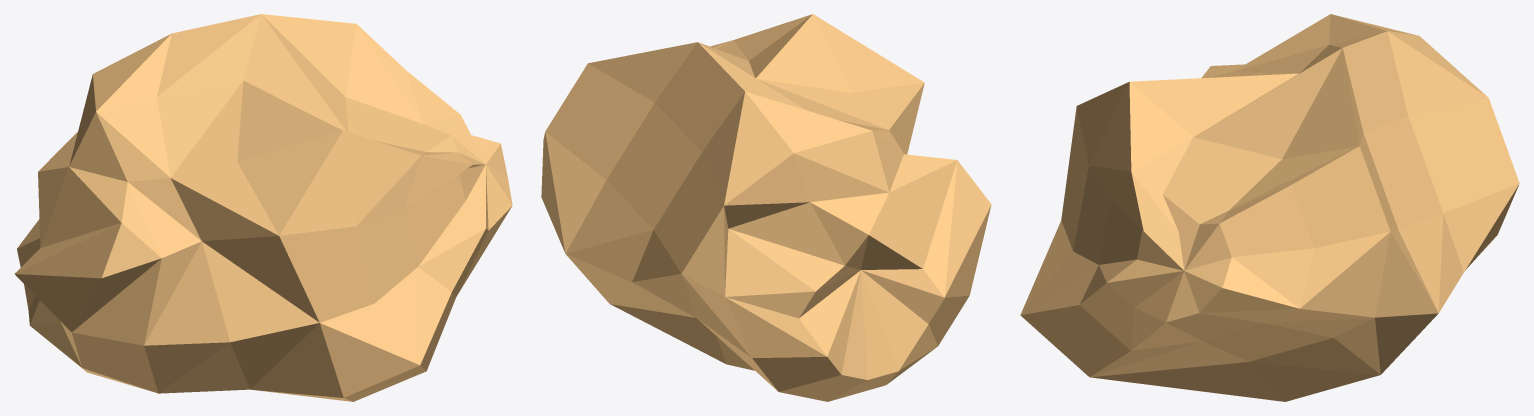
The model's file is boulder.glb.
3 renders of one model, left to right at view 1: azimuth 30°, elevation 25°; view 2: azimuth 150°, elevation 25°; view 3: azimuth 270°, elevation 25°, orthographic. The views are drawn at different scales.
Visible parts, largest first — view 1: group1446250878; view 2: group1446250878; view 3: group1446250878.
Boxes of the visible parts, left/top/right/bottom form: group1446250878: left=14, top=14, right=512, bottom=401; group1446250878: left=541, top=14, right=991, bottom=401; group1446250878: left=1020, top=14, right=1519, bottom=401.
Bounding box in the file's own units: 1.5 × 1.09 × 1.4.
